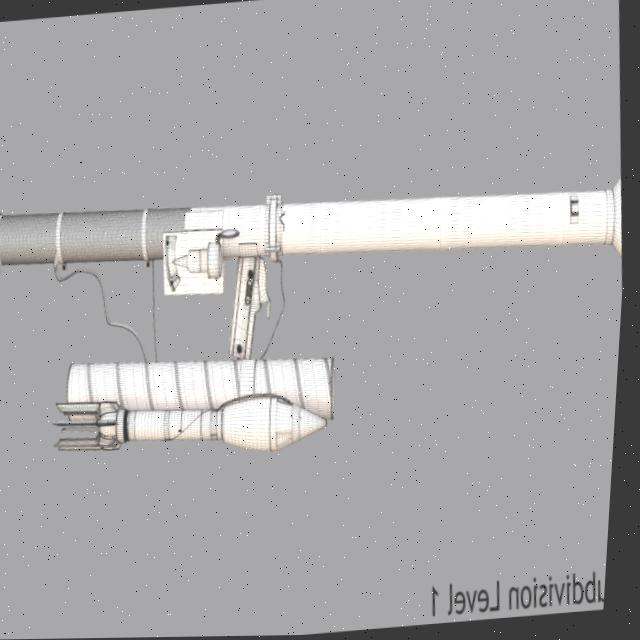grenade: (47, 384, 339, 475)
rocket: (0, 146, 633, 364)
